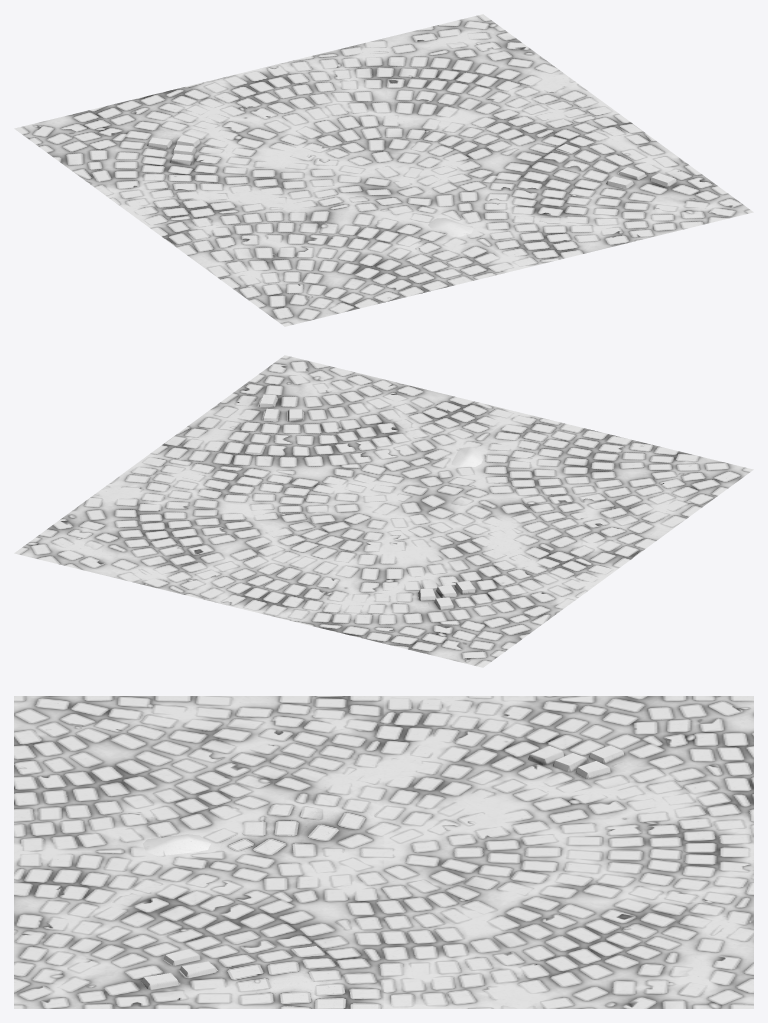
File: Cobblestone Floor Small.FBX
The picture shows the model from 3 angles, top to bottom: view 1: azimuth 30°, elevation 25°; view 2: azimuth 150°, elevation 25°; view 3: azimuth 270°, elevation 25°; orthographic projection. The views are drawn at different scales.
Visible parts, largest first — view 1: Cobblestone Floor Small; view 2: Cobblestone Floor Small; view 3: Cobblestone Floor Small.
Part boxes in pixels (bbox=[...]): Cobblestone Floor Small: bbox=[14, 14, 753, 326]; Cobblestone Floor Small: bbox=[14, 355, 753, 667]; Cobblestone Floor Small: bbox=[14, 696, 753, 1008].
Size of the model in its own units: 40 by 0.5321 by 40.
1 material, 1 textured.
